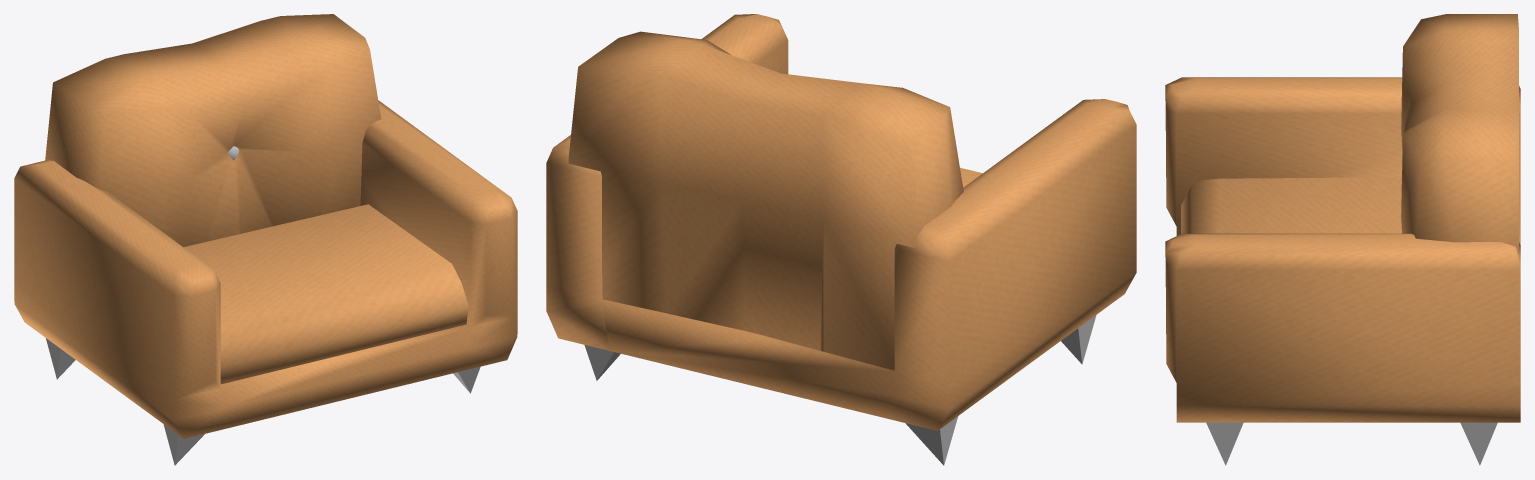
The model's file is Chair_C_3.FBX.
The picture shows the model from 3 angles, left to right: view 1: azimuth 30°, elevation 25°; view 2: azimuth 150°, elevation 25°; view 3: azimuth 270°, elevation 25°; orthographic projection. The views are drawn at different scales.
Visible parts, largest first — view 1: Chair; view 2: Chair; view 3: Chair.
Part boxes in pixels (x1=…): Chair: x1=14, y1=14, x2=517, y2=465; Chair: x1=546, y1=14, x2=1136, y2=465; Chair: x1=1165, y1=14, x2=1520, y2=465.
Size of the model in its own units: 204 by 167 by 169.
